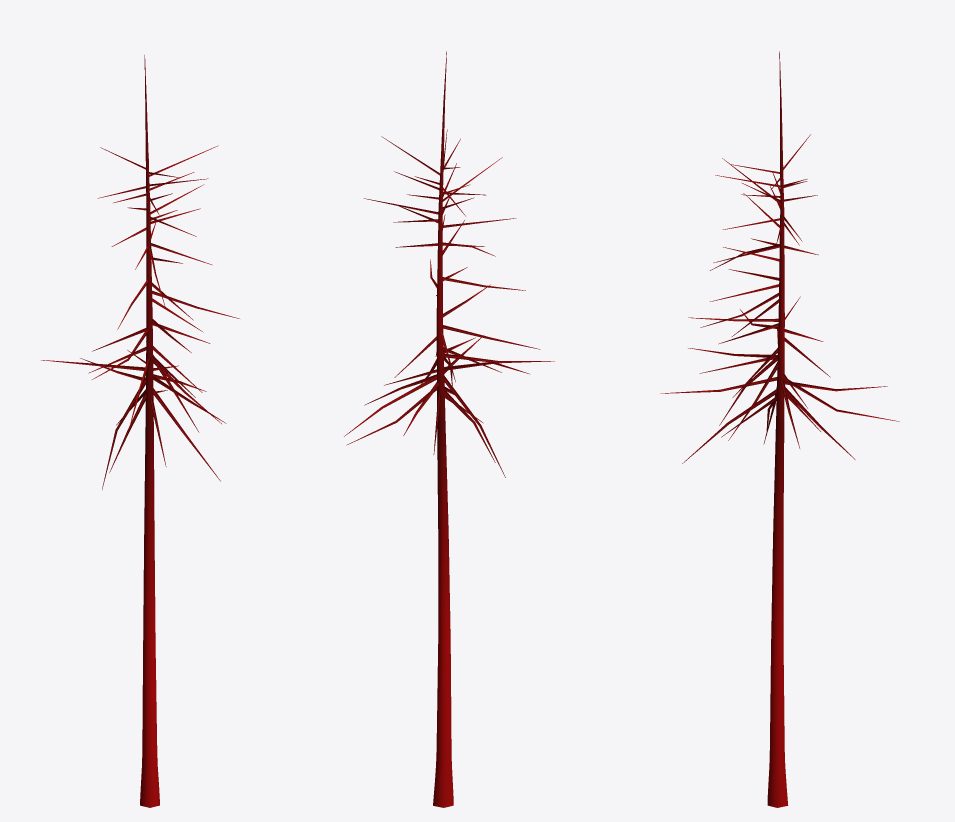
Rendered from pine_a_lod2.glb.
3 renders of one model, left to right at view 1: azimuth 30°, elevation 25°; view 2: azimuth 150°, elevation 25°; view 3: azimuth 270°, elevation 25°, orthographic.
Parts seen in each view (by area): view 1: pine_a_LOD2; view 2: pine_a_LOD2; view 3: pine_a_LOD2.
Part boxes in pixels (x1=…): pine_a_LOD2: x1=41, y1=55, x2=239, y2=807; pine_a_LOD2: x1=344, y1=51, x2=554, y2=807; pine_a_LOD2: x1=660, y1=51, x2=899, y2=807.
Bounding box in the file's own units: 8.02 × 25 × 9.41.
